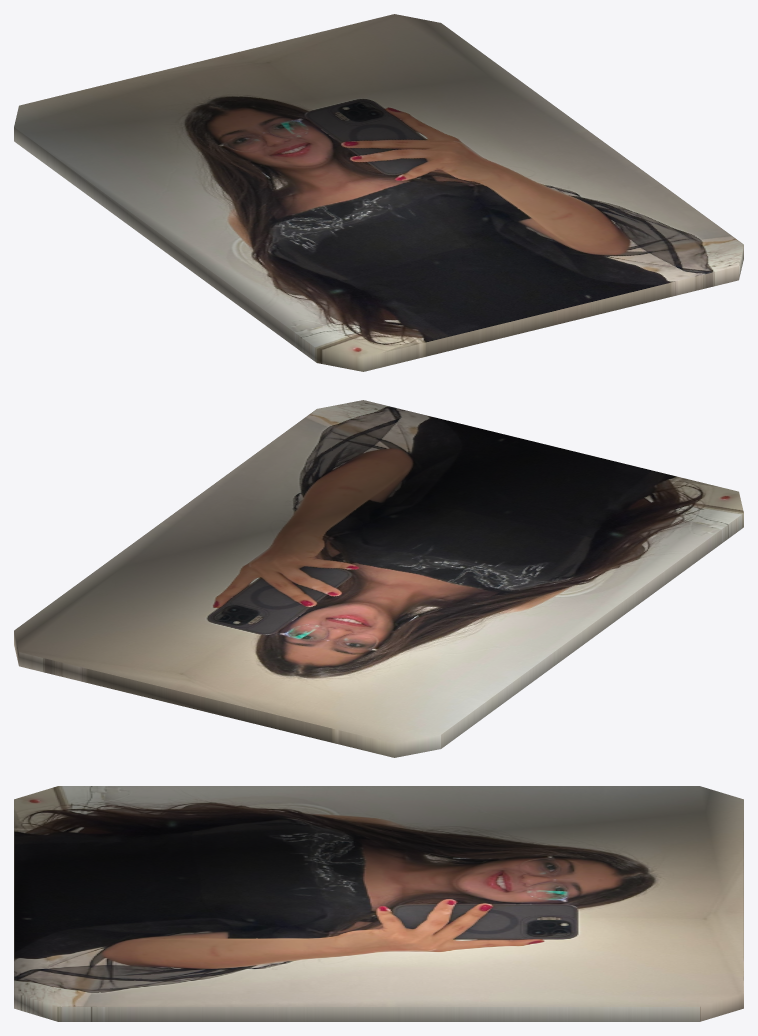
Rendered from minecard.glb.
The picture shows the model from 3 angles, top to bottom: view 1: azimuth 30°, elevation 25°; view 2: azimuth 150°, elevation 25°; view 3: azimuth 270°, elevation 25°; orthographic projection. The views are drawn at different scales.
Parts seen in each view (by area): view 1: Plane; view 2: Plane; view 3: Plane.
Part boxes in pixels (<box>): Plane: <box>14,14,743,371</box>; Plane: <box>14,400,743,757</box>; Plane: <box>14,786,743,1021</box>.
Bounding box in the file's own units: 0.63 × 0.02 × 0.88.
1 material, 1 textured.
